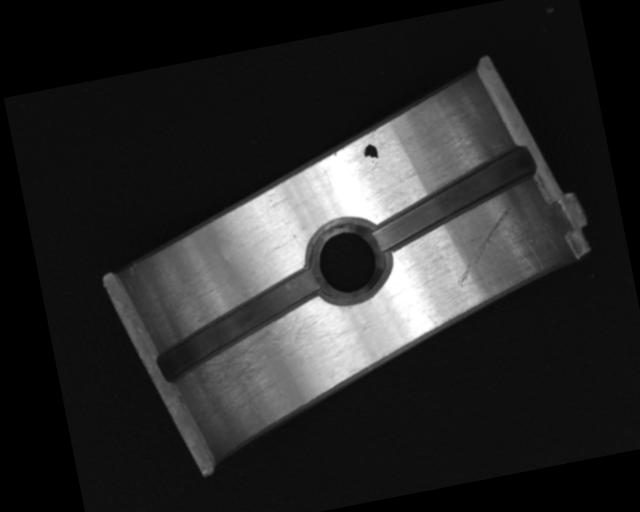blot: (362, 142, 380, 166)
gap: (147, 264, 332, 384), (363, 144, 547, 256)
hole: (301, 210, 394, 310)
nick: (446, 205, 525, 288)
scratch: (176, 307, 334, 422)
